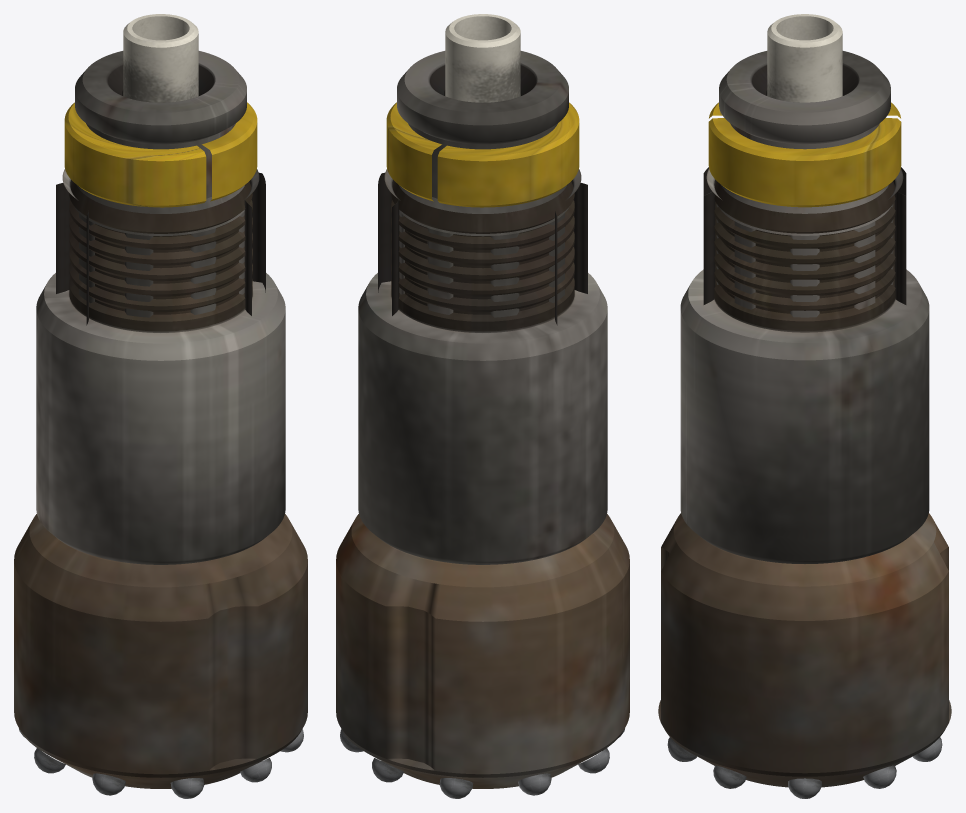
File: SM_Bit_4_1_2po_AvecChuck.glb
3 views of the same model, side by side, from view 1: azimuth 30°, elevation 25°; view 2: azimuth 150°, elevation 25°; view 3: azimuth 270°, elevation 25° (orthographic).
Visible parts, largest first — view 1: Bit_4_1_2po_AvecChuck_Chuck, Bit_4_1_2po_AvecChuck_Bit, Bit_4_1_2po_AvecChuck_Anneaux, Bit_4_1_2po_AvecChuck_TubeDePied, Bit_4_1_2po_AvecChuck_Boutons; view 2: Bit_4_1_2po_AvecChuck_Chuck, Bit_4_1_2po_AvecChuck_Bit, Bit_4_1_2po_AvecChuck_Anneaux, Bit_4_1_2po_AvecChuck_TubeDePied, Bit_4_1_2po_AvecChuck_Boutons; view 3: Bit_4_1_2po_AvecChuck_Chuck, Bit_4_1_2po_AvecChuck_Bit, Bit_4_1_2po_AvecChuck_Anneaux, Bit_4_1_2po_AvecChuck_TubeDePied, Bit_4_1_2po_AvecChuck_Boutons.
Boxes of the visible parts, <box> form: Bit_4_1_2po_AvecChuck_Chuck: <box>36,169,285,564</box>; Bit_4_1_2po_AvecChuck_Bit: <box>14,51,307,788</box>; Bit_4_1_2po_AvecChuck_Anneaux: <box>64,102,257,207</box>; Bit_4_1_2po_AvecChuck_TubeDePied: <box>123,14,198,102</box>; Bit_4_1_2po_AvecChuck_Boutons: <box>19,728,303,798</box>; Bit_4_1_2po_AvecChuck_Chuck: <box>358,169,607,564</box>; Bit_4_1_2po_AvecChuck_Bit: <box>336,51,629,788</box>; Bit_4_1_2po_AvecChuck_Anneaux: <box>386,102,579,207</box>; Bit_4_1_2po_AvecChuck_TubeDePied: <box>445,14,520,102</box>; Bit_4_1_2po_AvecChuck_Boutons: <box>340,728,624,798</box>; Bit_4_1_2po_AvecChuck_Chuck: <box>680,167,929,563</box>; Bit_4_1_2po_AvecChuck_Bit: <box>658,51,951,787</box>; Bit_4_1_2po_AvecChuck_Anneaux: <box>708,102,901,207</box>; Bit_4_1_2po_AvecChuck_TubeDePied: <box>767,14,842,102</box>; Bit_4_1_2po_AvecChuck_Boutons: <box>667,737,942,798</box>.
Bounding box in the file's own units: 0.1143 × 0.3129 × 0.1143.
Materials: 5 (5 with a texture image).
